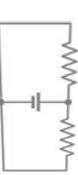resistor: (56, 34, 77, 90), (55, 115, 77, 161)
